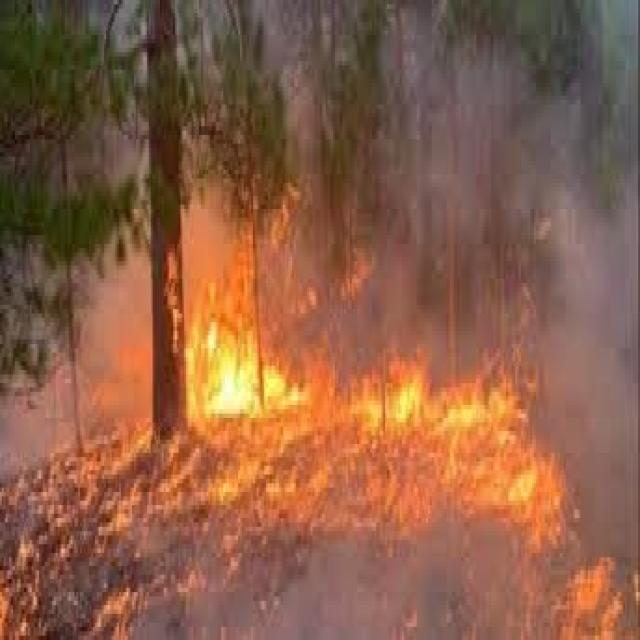Fire: (394, 337, 514, 472), (186, 294, 299, 432), (504, 420, 575, 560), (559, 534, 640, 640)
Smoke: (417, 0, 632, 357), (530, 132, 639, 639), (510, 100, 638, 301), (276, 539, 460, 640)
